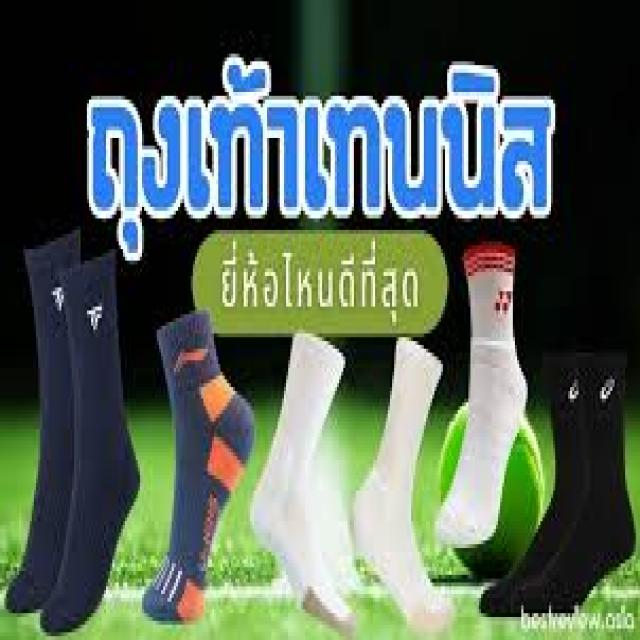sock: (140, 306, 254, 621)
